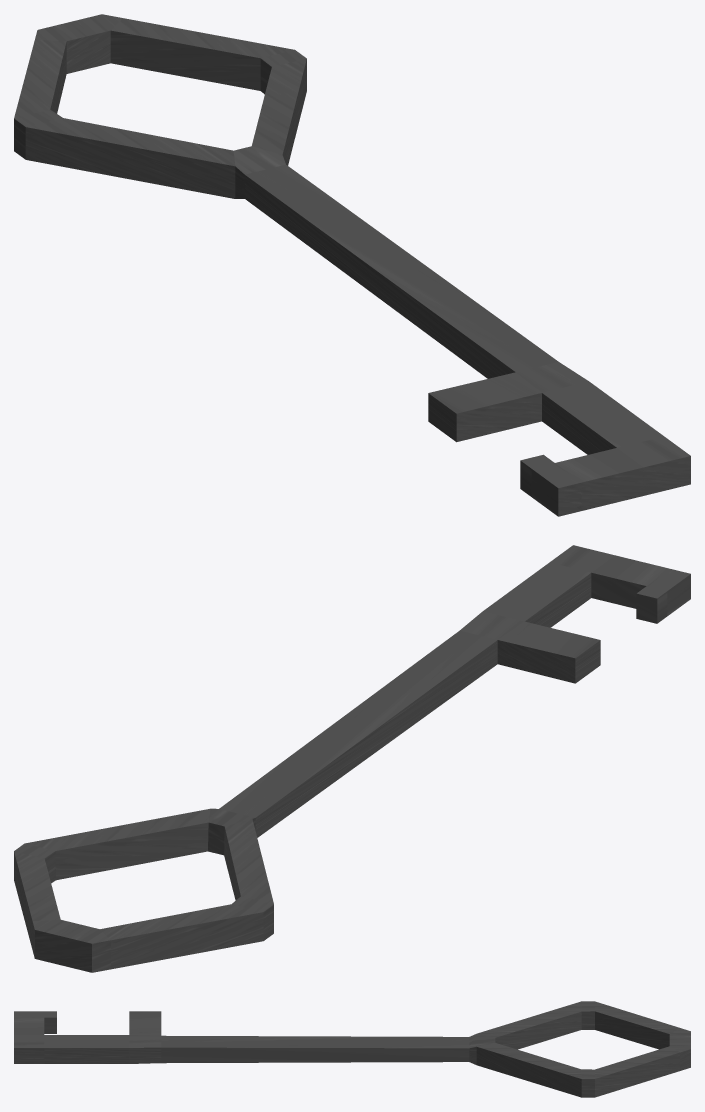
Rendered from Avain.fbx.
The picture shows the model from 3 angles, top to bottom: view 1: azimuth 30°, elevation 25°; view 2: azimuth 150°, elevation 25°; view 3: azimuth 270°, elevation 25°; orthographic projection. The views are drawn at different scales.
Parts seen in each view (by area): view 1: Avain; view 2: Avain; view 3: Avain.
Boxes of the visible parts, <box> form: Avain: <box>14,14,690,516</box>; Avain: <box>14,545,690,972</box>; Avain: <box>14,1001,690,1097</box>.
Bounding box in the file's own units: 14.69 × 1.64 × 54.08.
Materials: 1 (1 with a texture image).
